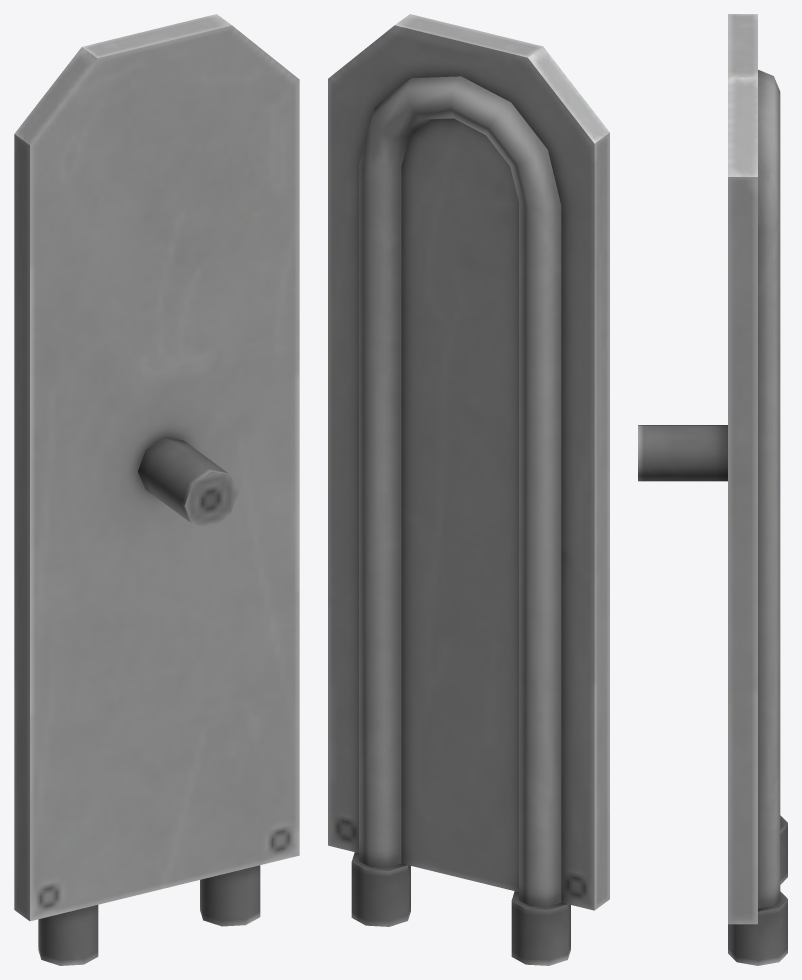
The model's file is 1f_radiator_srf_1.obj.
3 renders of one model, left to right at view 1: azimuth 30°, elevation 25°; view 2: azimuth 150°, elevation 25°; view 3: azimuth 270°, elevation 25°, orthographic. The views are drawn at different scales.
Parts seen in each view (by area): view 1: mesh1; view 2: mesh1; view 3: mesh1.
Part boxes in pixels (<box>): mesh1: <box>14,14,299,965</box>; mesh1: <box>328,14,609,965</box>; mesh1: <box>638,14,787,965</box>.
Bounding box in the file's own units: 0.25 × 0.8 × 0.125.
1 material, 1 textured.
